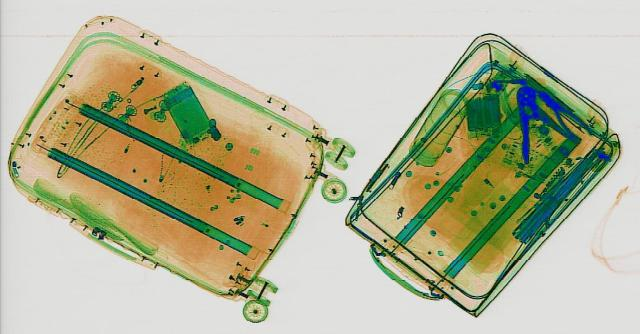Pliers: (488, 82, 590, 163), (526, 87, 600, 141)
